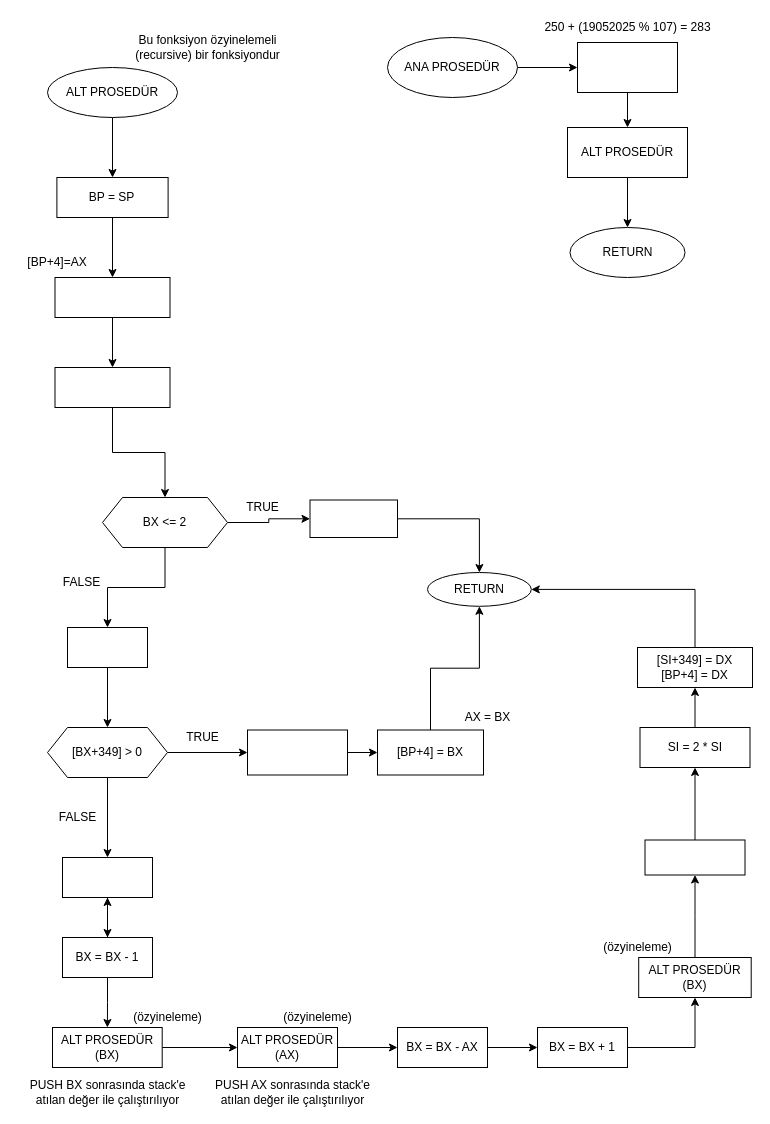
Some shapes in this 770 by 1124 pixel diagram are drawn without their labels. Each missing label, with the centre of its shape:
[BP+4] = 1: pixel 353 518
AX = 283: pixel 627 67
BX = 2*BX: pixel 107 647
BX = [BP+4]: pixel 112 297
BX = [BX+349]: pixel 297 752
BX = SI: pixel 107 877
DX = AX + DX: pixel 694 857
SI = BX: pixel 112 387
